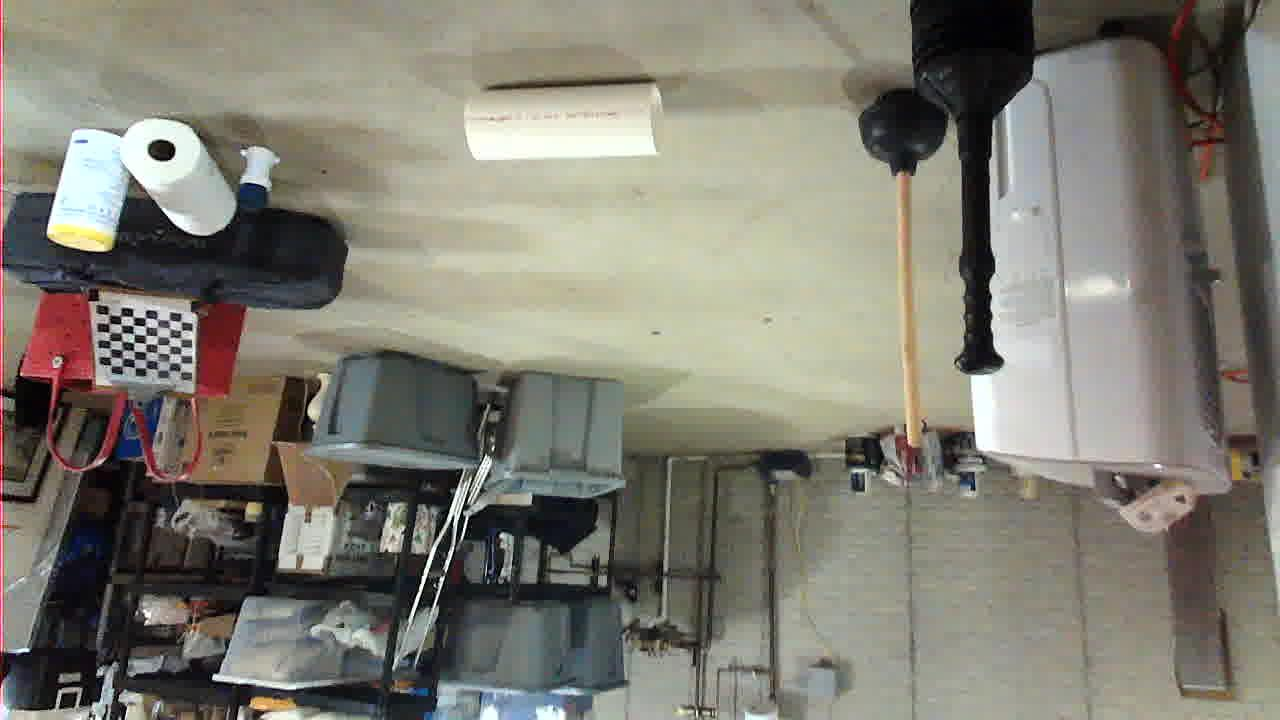coral: (617, 562, 817, 636)
